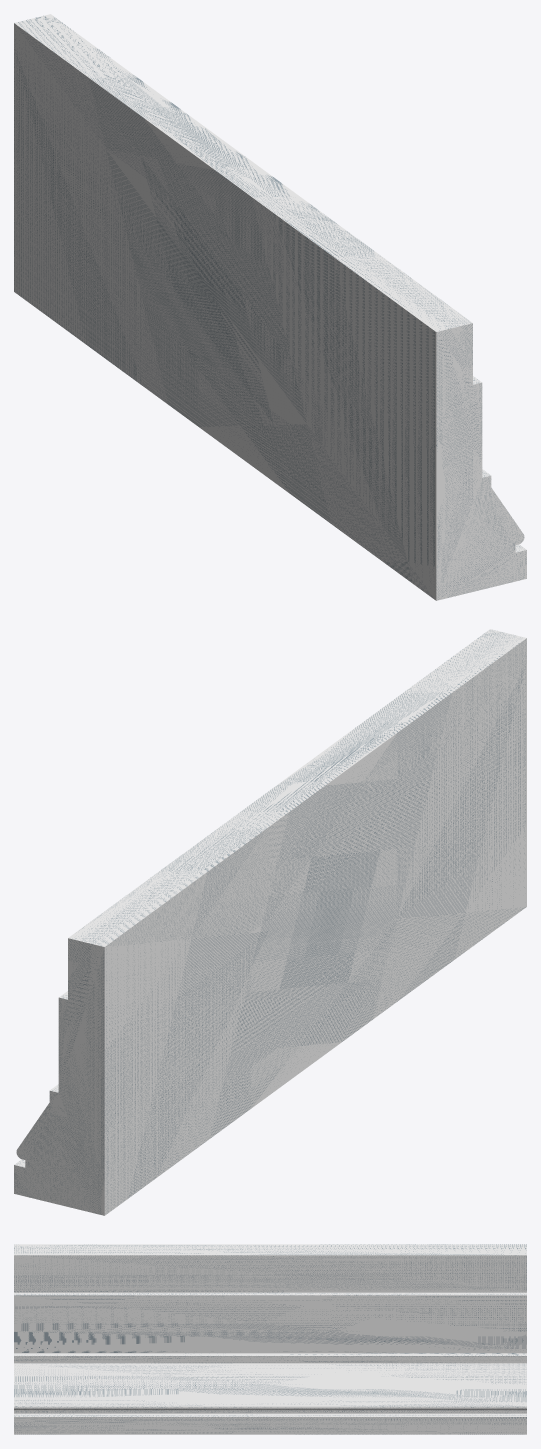
The model's file is moulding_top.dae.
3 views of the same model, one above another, from view 1: azimuth 30°, elevation 25°; view 2: azimuth 150°, elevation 25°; view 3: azimuth 270°, elevation 25° (orthographic). The views are drawn at different scales.
Visible parts, largest first — view 1: KB407; view 2: KB407; view 3: KB407.
Part boxes in pixels (box(x1,y1,x2,y2)): KB407: box(14, 14, 526, 600); KB407: box(14, 629, 526, 1215); KB407: box(14, 1244, 526, 1434).
Bounding box in the file's own units: 1.23 × 9.94 × 3.49.
